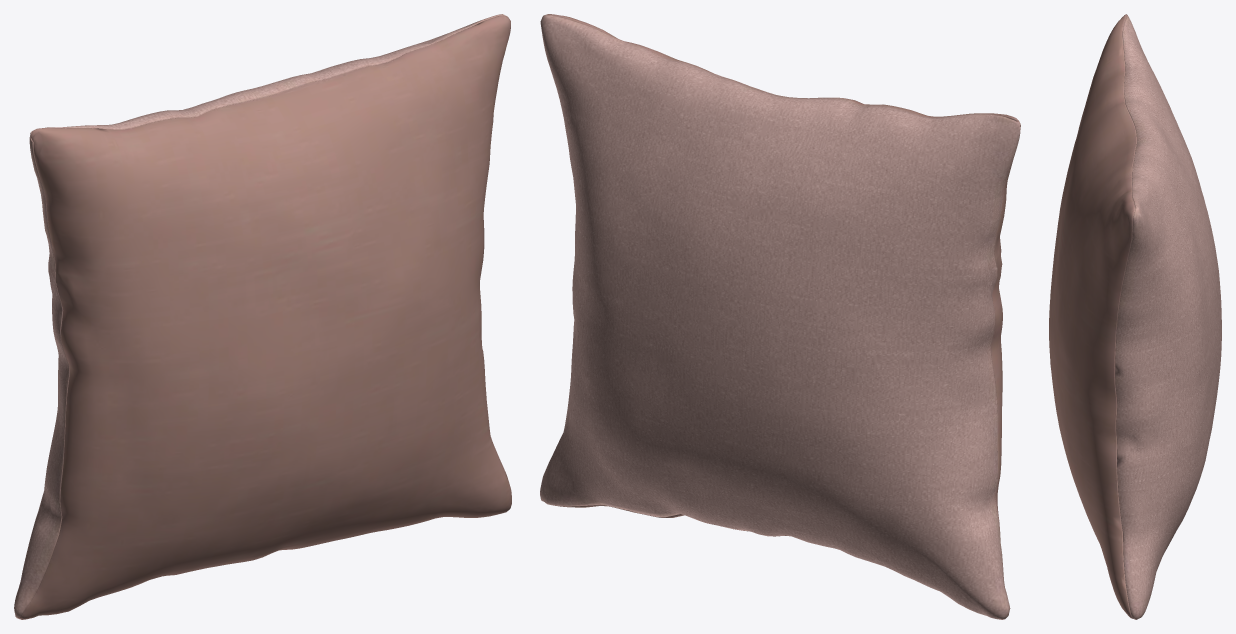
File: B07JLZC56G.glb
3 renders of one model, left to right at view 1: azimuth 30°, elevation 25°; view 2: azimuth 150°, elevation 25°; view 3: azimuth 270°, elevation 25°, orthographic. The views are drawn at different scales.
Visible parts, largest first — view 1: RootNode; view 2: RootNode; view 3: RootNode.
Boxes of the visible parts, left/top/right/bottom form: RootNode: left=14, top=14, right=511, bottom=619; RootNode: left=540, top=14, right=1020, bottom=619; RootNode: left=1049, top=14, right=1221, bottom=619.
Bounding box in the file's own units: 0.4702 × 0.464 × 0.1753.
Materials: 1 (1 with a texture image).
